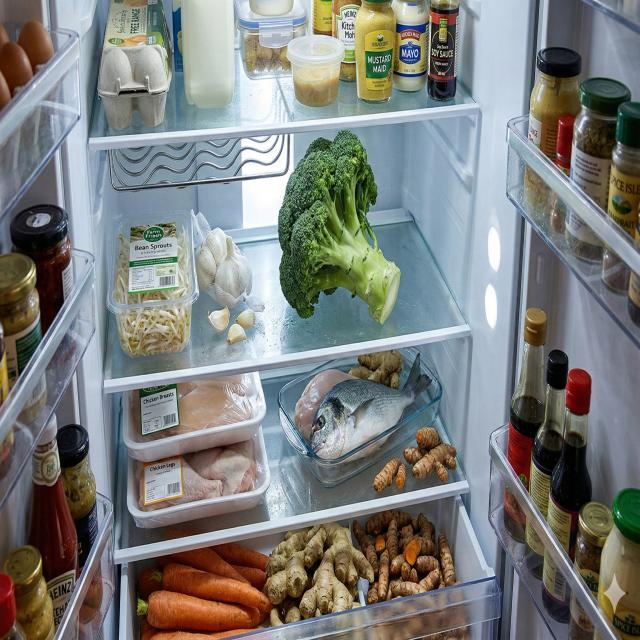bean_sprouts: (114, 225, 192, 358)
brocolli: (278, 129, 401, 325)
carrot: (137, 542, 274, 640)
chicken: (134, 438, 258, 510), (132, 374, 252, 437)
egg: (97, 0, 173, 130), (0, 21, 55, 151)
fish: (309, 353, 433, 460)
garlic: (197, 227, 256, 346)
ginger: (264, 520, 374, 628), (348, 349, 404, 391)
turmeric: (353, 508, 462, 604), (403, 426, 457, 484), (373, 458, 407, 492)
